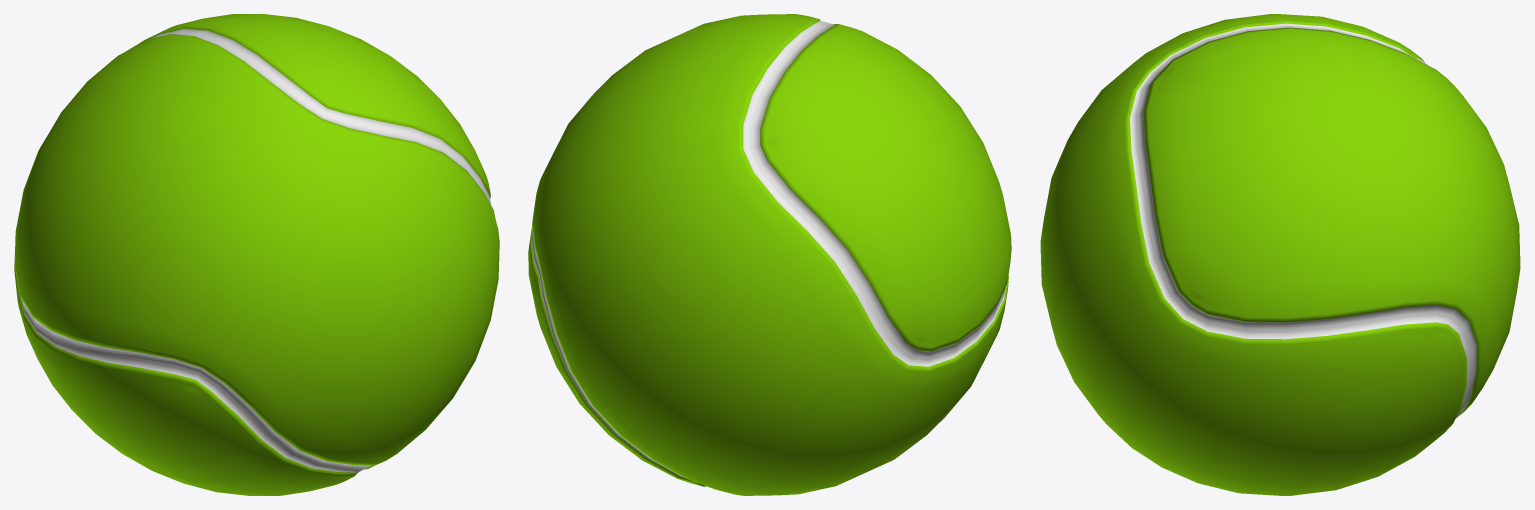
Rendered from tennisball.glb.
3 renders of one model, left to right at view 1: azimuth 30°, elevation 25°; view 2: azimuth 150°, elevation 25°; view 3: azimuth 270°, elevation 25°, orthographic.
Visible parts, largest first — view 1: Cube.002; view 2: Cube.002; view 3: Cube.002.
Boxes of the visible parts, left/top/right/bottom form: Cube.002: left=14, top=14, right=499, bottom=495; Cube.002: left=528, top=14, right=1011, bottom=495; Cube.002: left=1040, top=14, right=1520, bottom=495.
Size of the model in its own units: 2.11 by 2.11 by 2.09.
